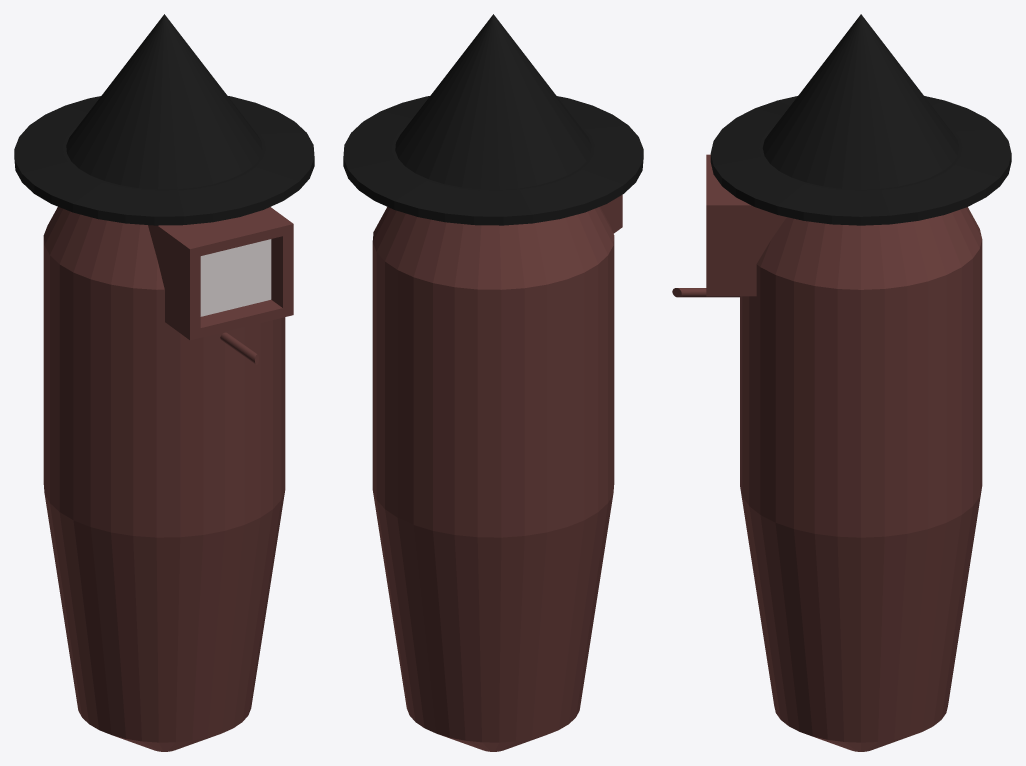
The model's file is Bob2.fbx.
3 views of the same model, side by side, from view 1: azimuth 30°, elevation 25°; view 2: azimuth 150°, elevation 25°; view 3: azimuth 270°, elevation 25° (orthographic).
Parts seen in each view (by area): view 1: Cylinder; view 2: Cylinder; view 3: Cylinder.
Part boxes in pixels (x1=…): Cylinder: x1=14, y1=14, x2=314, y2=751; Cylinder: x1=343, y1=14, x2=643, y2=751; Cylinder: x1=672, y1=14, x2=1011, y2=751.
Bounding box in the file's own units: 1.26 × 3.38 × 1.42.
